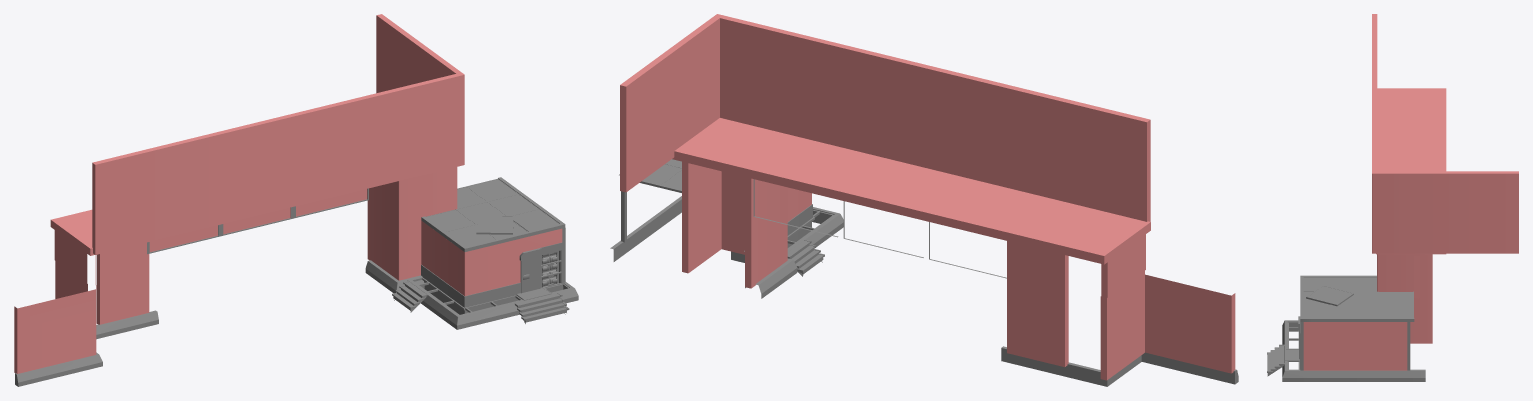
File: S_Envi_Common_NoCoast_Merge_01.gltf
3 renders of one model, left to right at view 1: azimuth 30°, elevation 25°; view 2: azimuth 150°, elevation 25°; view 3: azimuth 270°, elevation 25°, orthographic. The views are drawn at different scales.
Parts seen in each view (by area): view 1: S_Envi_Common_NoCoast_Merge_01; view 2: S_Envi_Common_NoCoast_Merge_01; view 3: S_Envi_Common_NoCoast_Merge_01.
Boxes of the visible parts, x1,y1,x2,y2 form: S_Envi_Common_NoCoast_Merge_01: [14, 14, 578, 386]; S_Envi_Common_NoCoast_Merge_01: [610, 14, 1238, 386]; S_Envi_Common_NoCoast_Merge_01: [1267, 14, 1518, 381].
Size of the model in its own units: 47.24 by 18.79 by 22.84.
